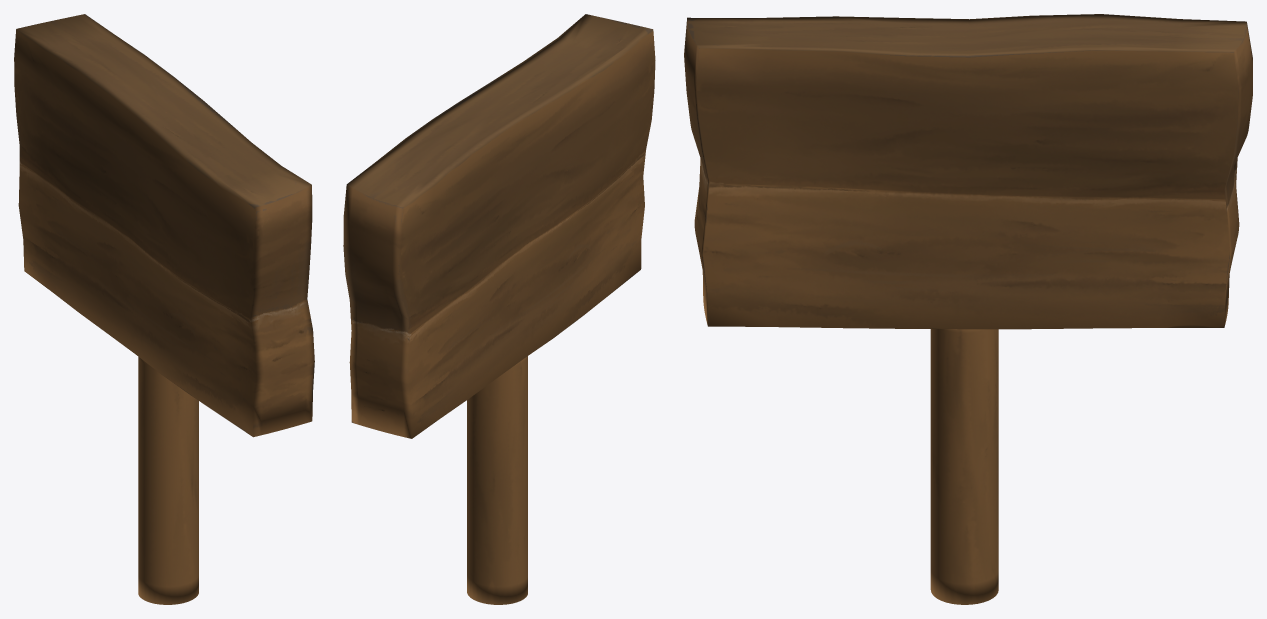
Rendered from WoodenSIGN (1).fbx.
3 renders of one model, left to right at view 1: azimuth 30°, elevation 25°; view 2: azimuth 150°, elevation 25°; view 3: azimuth 270°, elevation 25°, orthographic. The views are drawn at different scales.
Visible parts, largest first — view 1: Merged_PM3D_Cylinder3D1; view 2: Merged_PM3D_Cylinder3D1; view 3: Merged_PM3D_Cylinder3D1.
Boxes of the visible parts, left/top/right/bottom form: Merged_PM3D_Cylinder3D1: left=14, top=14, right=314, bottom=604; Merged_PM3D_Cylinder3D1: left=343, top=14, right=655, bottom=604; Merged_PM3D_Cylinder3D1: left=684, top=14, right=1252, bottom=604.
Bounding box in the file's own units: 0.6314 × 3.82 × 3.52.
Materials: 1 (1 with a texture image).
